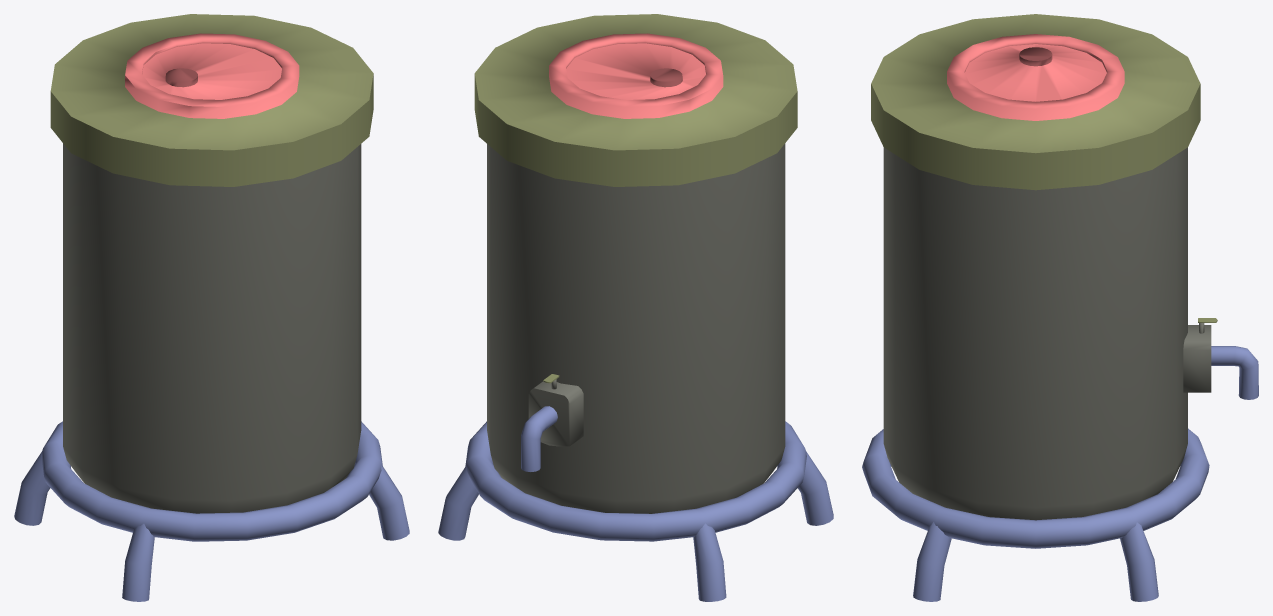
Rendered from water_resevoir.fbx.
The picture shows the model from 3 angles, left to right: view 1: azimuth 30°, elevation 25°; view 2: azimuth 150°, elevation 25°; view 3: azimuth 270°, elevation 25°; orthographic projection.
Visible parts, largest first — view 1: Resevoir, ResevoirHolder; view 2: Resevoir, ResevoirHolder; view 3: Resevoir, ResevoirHolder.
Boxes of the visible parts, bbox=[...] form: Resevoir: bbox=[50, 14, 373, 513]; ResevoirHolder: bbox=[14, 421, 409, 601]; Resevoir: bbox=[474, 14, 797, 513]; ResevoirHolder: bbox=[438, 421, 833, 601]; Resevoir: bbox=[871, 14, 1258, 520]; ResevoirHolder: bbox=[862, 428, 1209, 601].
Size of the model in its own units: 228 by 338 by 261.
